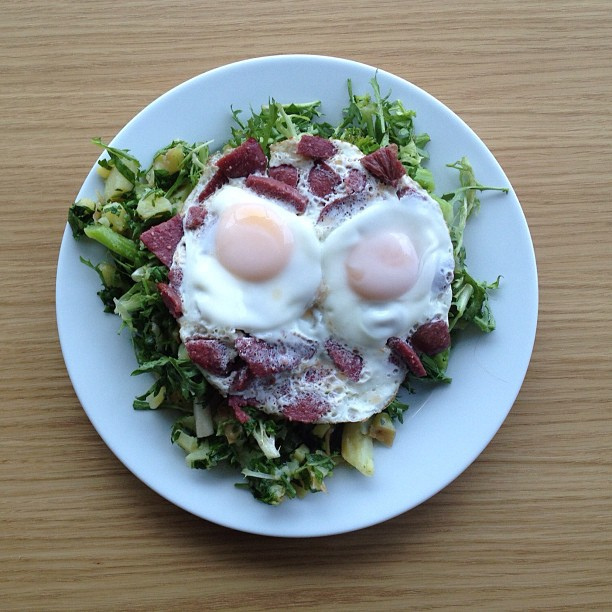chopped lettuce: (85, 150, 187, 430), (176, 397, 324, 506), (232, 84, 422, 152)
fried egg: (196, 182, 312, 332), (328, 205, 448, 342)
